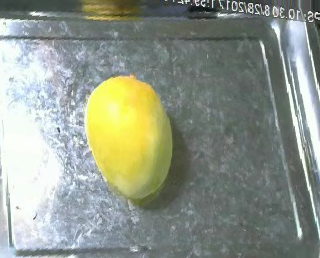Mango: (83, 70, 182, 199)
